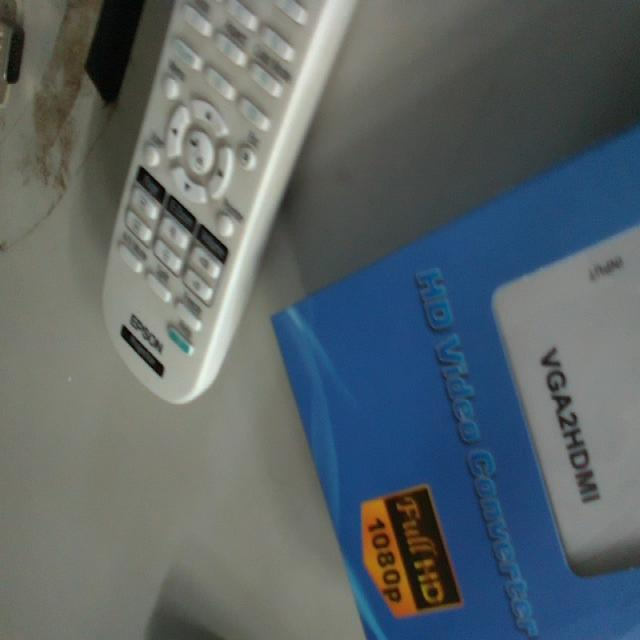remote: (271, 126, 640, 640), (101, 0, 349, 413)
